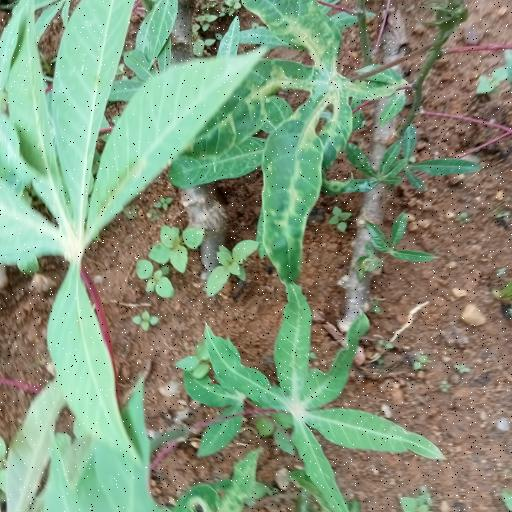Cassava_Mosaic: (170, 4, 398, 268)
